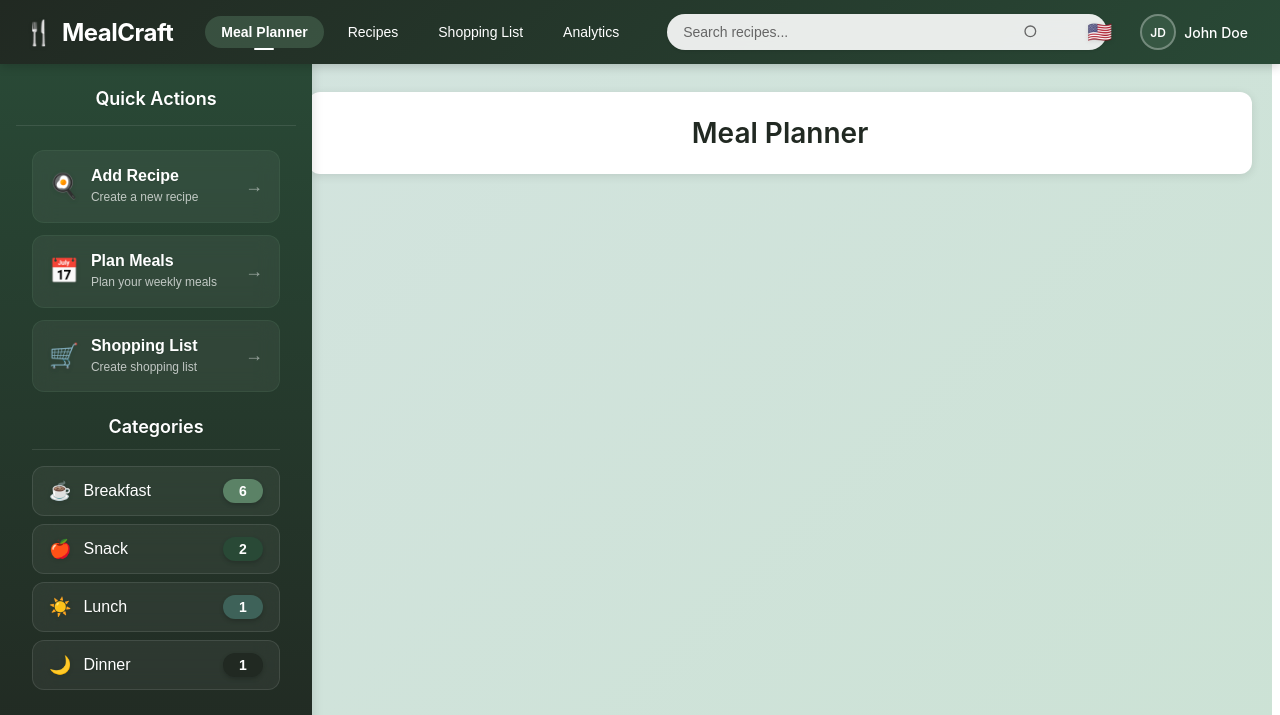
Test case: App Component › updates current section when navigation is clicked
The width and height of the screenshot is (1280, 715).
Step 1. Click the button "Recipes" → {"x": 373, "y": 32}, box [332, 16, 414, 48]
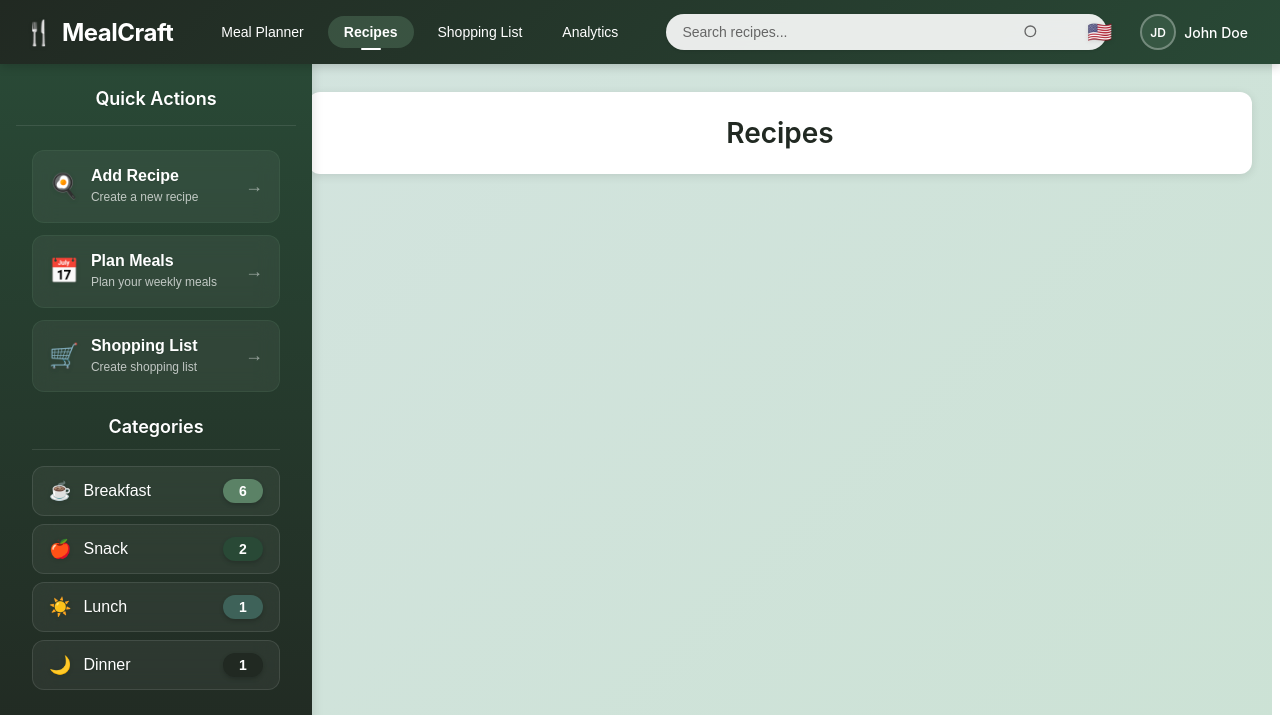
Result: the heading "Recipes" is shown at [726, 116, 834, 150]
